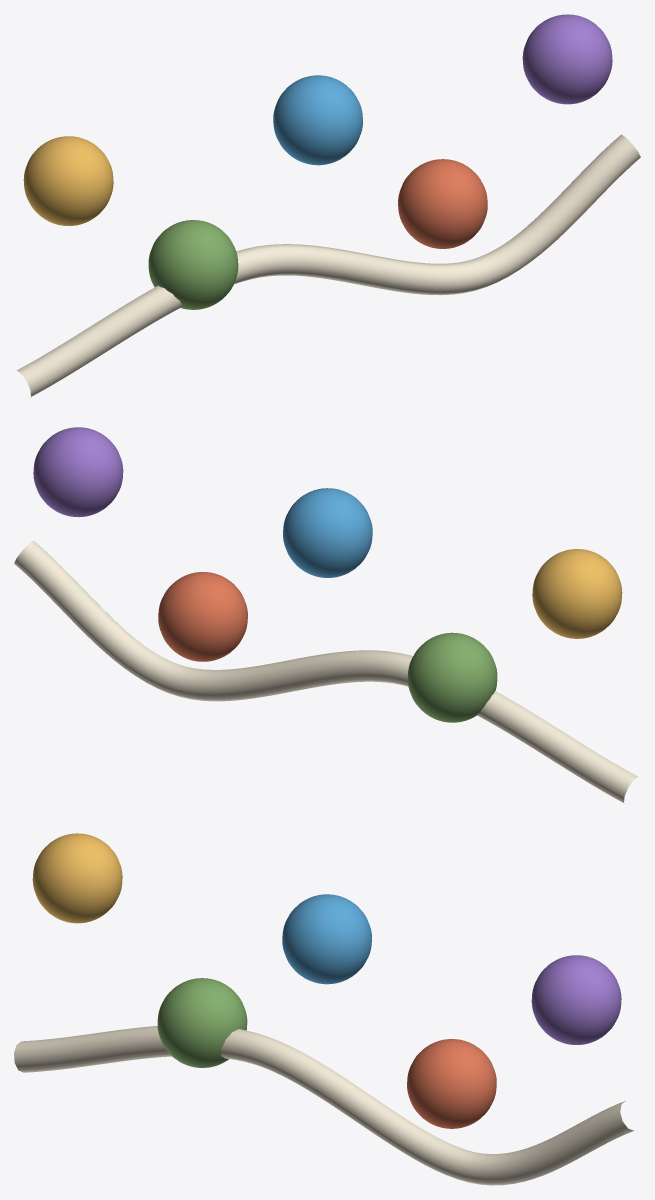
The model's file is biology-health-nutrition.glb.
3 renders of one model, top to bottom at view 1: azimuth 30°, elevation 25°; view 2: azimuth 150°, elevation 25°; view 3: azimuth 330°, elevation 25°, orthographic.
Visible parts, largest first — view 1: digestion-track-to-body, nutrient-group-4, nutrient-group-0, nutrient-group-2, nutrient-group-3, nutrient-group-1; view 2: digestion-track-to-body, nutrient-group-4, nutrient-group-0, nutrient-group-2, nutrient-group-3, nutrient-group-1; view 3: digestion-track-to-body, nutrient-group-2, nutrient-group-0, nutrient-group-4, nutrient-group-3, nutrient-group-1.
Boxes of the visible parts, left/top/right/bottom form: digestion-track-to-body: left=17, top=134, right=640, bottom=397; nutrient-group-4: left=522, top=14, right=612, bottom=104; nutrient-group-0: left=23, top=136, right=113, bottom=225; nutrient-group-2: left=273, top=75, right=362, bottom=165; nutrient-group-3: left=398, top=159, right=487, bottom=248; nutrient-group-1: left=148, top=220, right=238, bottom=309; digestion-track-to-body: left=14, top=540, right=637, bottom=803; nutrient-group-4: left=33, top=427, right=123, bottom=517; nutrient-group-0: left=532, top=549, right=622, bottom=638; nutrient-group-2: left=283, top=488, right=372, bottom=577; nutrient-group-3: left=158, top=572, right=247, bottom=661; nutrient-group-1: left=407, top=632, right=497, bottom=722; digestion-track-to-body: left=14, top=1026, right=633, bottom=1185; nutrient-group-2: left=282, top=894, right=371, bottom=984; nutrient-group-0: left=32, top=833, right=122, bottom=923; nutrient-group-4: left=531, top=955, right=621, bottom=1044; nutrient-group-3: left=407, top=1039, right=496, bottom=1128; nutrient-group-1: left=157, top=978, right=247, bottom=1067.
Size of what is drawn, in the model's own units: 1.59 by 0.5952 by 0.2.
